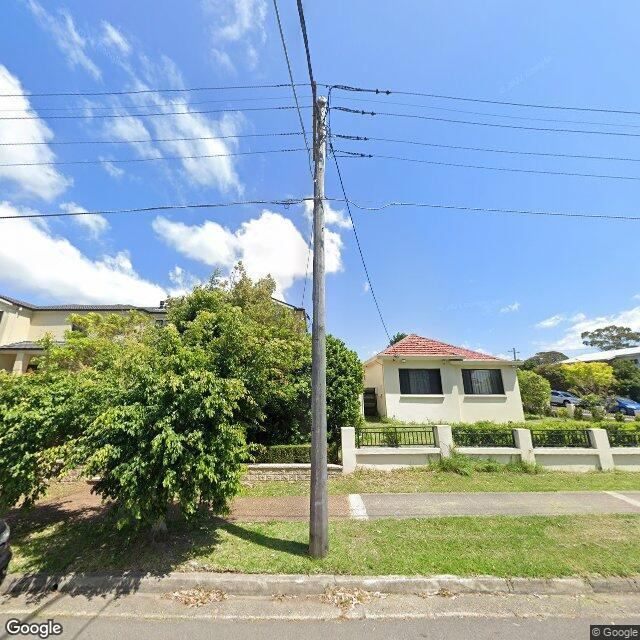crossarm: (311, 81, 316, 162)
timber-pole: (310, 95, 328, 558)
